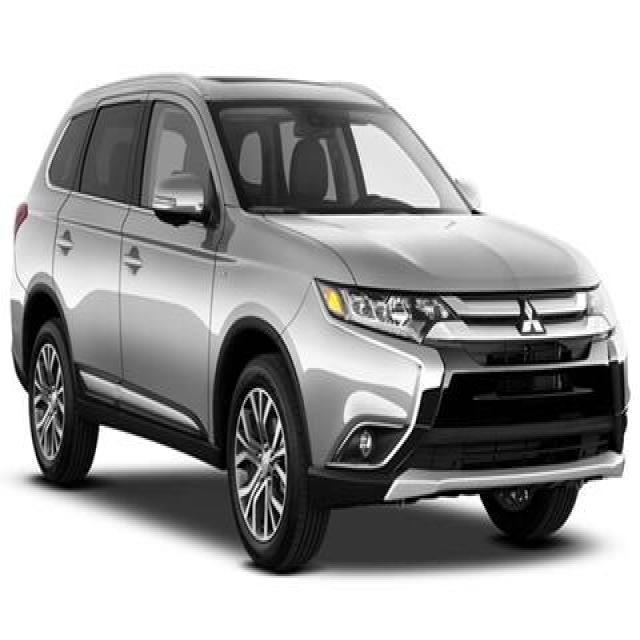light_vehicle: (8, 71, 631, 573)
